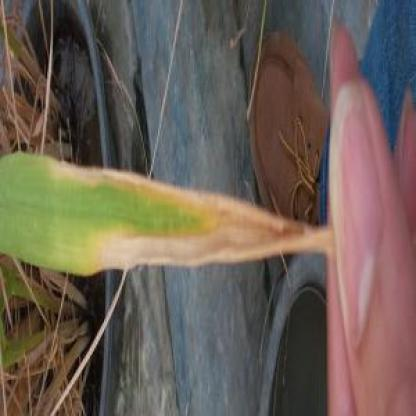Blight: (97, 212, 332, 276), (48, 162, 263, 214)
